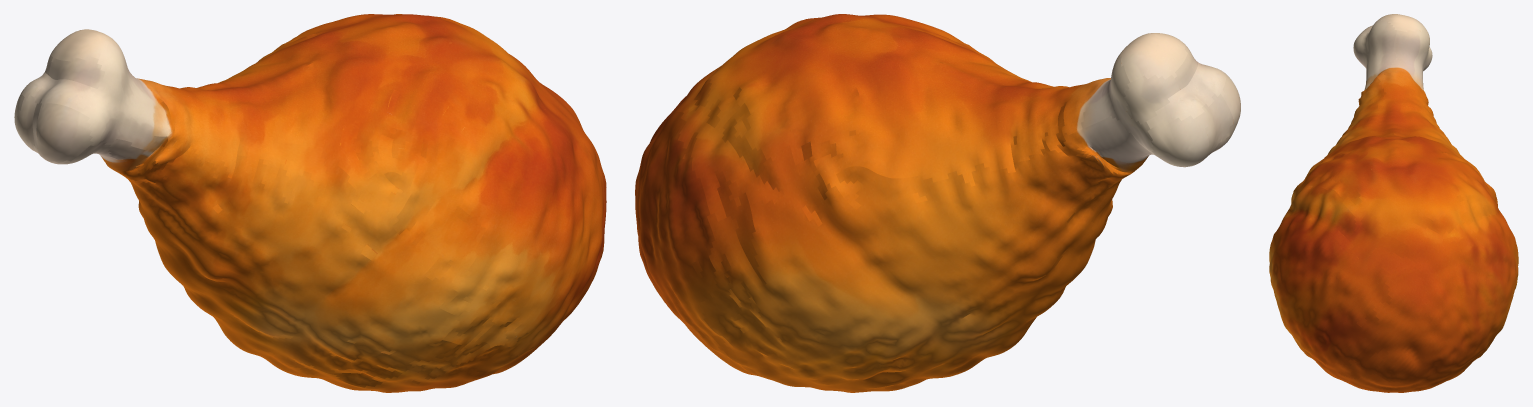
The model's file is chicken_leg.glb.
The picture shows the model from 3 angles, left to right: view 1: azimuth 30°, elevation 25°; view 2: azimuth 150°, elevation 25°; view 3: azimuth 270°, elevation 25°; orthographic projection. The views are drawn at different scales.
Parts seen in each view (by area): view 1: Mesh0; view 2: Mesh0; view 3: Mesh0.
Boxes of the visible parts, bbox=[...] form: Mesh0: bbox=[14, 14, 606, 392]; Mesh0: bbox=[635, 14, 1240, 392]; Mesh0: bbox=[1269, 14, 1518, 392].
Bounding box in the file's own units: 1.9 × 1.33 × 1.15.
1 material, 1 textured.
